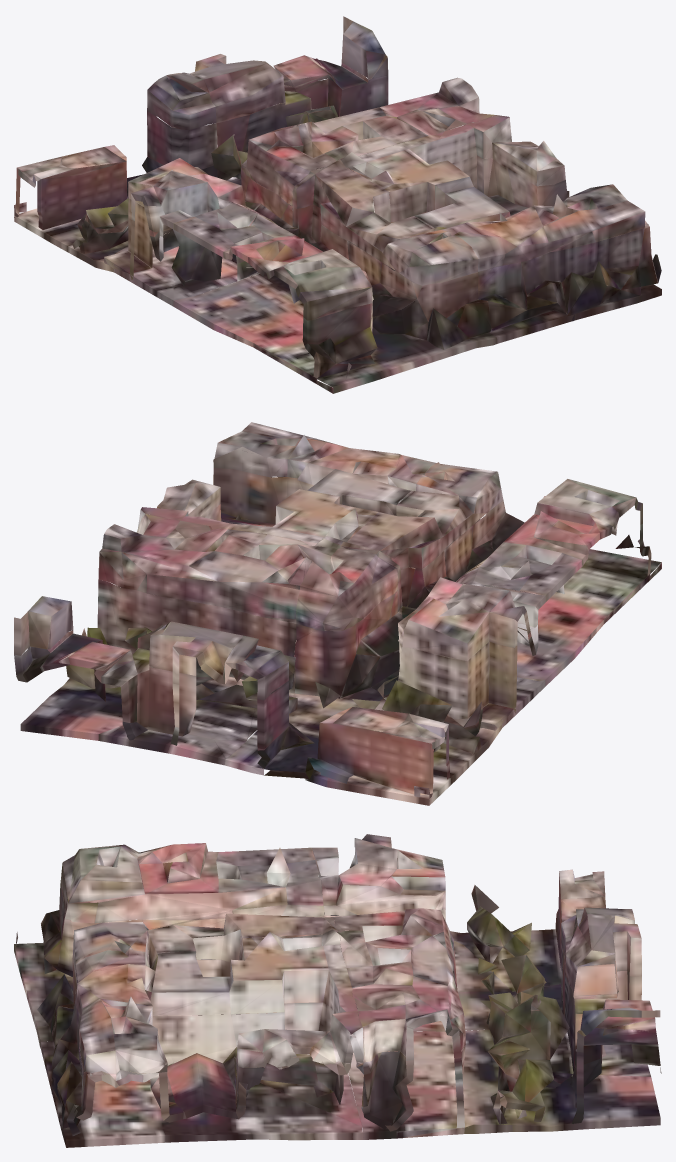
The picture shows the model from 3 angles, top to bottom: view 1: azimuth 30°, elevation 25°; view 2: azimuth 150°, elevation 25°; view 3: azimuth 270°, elevation 25°; orthographic projection. The views are drawn at different scales.
Visible parts, largest first — view 1: Mesh_0; view 2: Mesh_0; view 3: Mesh_0.
Part boxes in pixels (box(x1,y1,x2,y2)): Mesh_0: box(14, 16, 661, 393); Mesh_0: box(14, 422, 661, 805); Mesh_0: box(14, 834, 661, 1147).
Bounding box in the file's own units: 133 × 36.23 × 165.
1 material, 1 textured.
